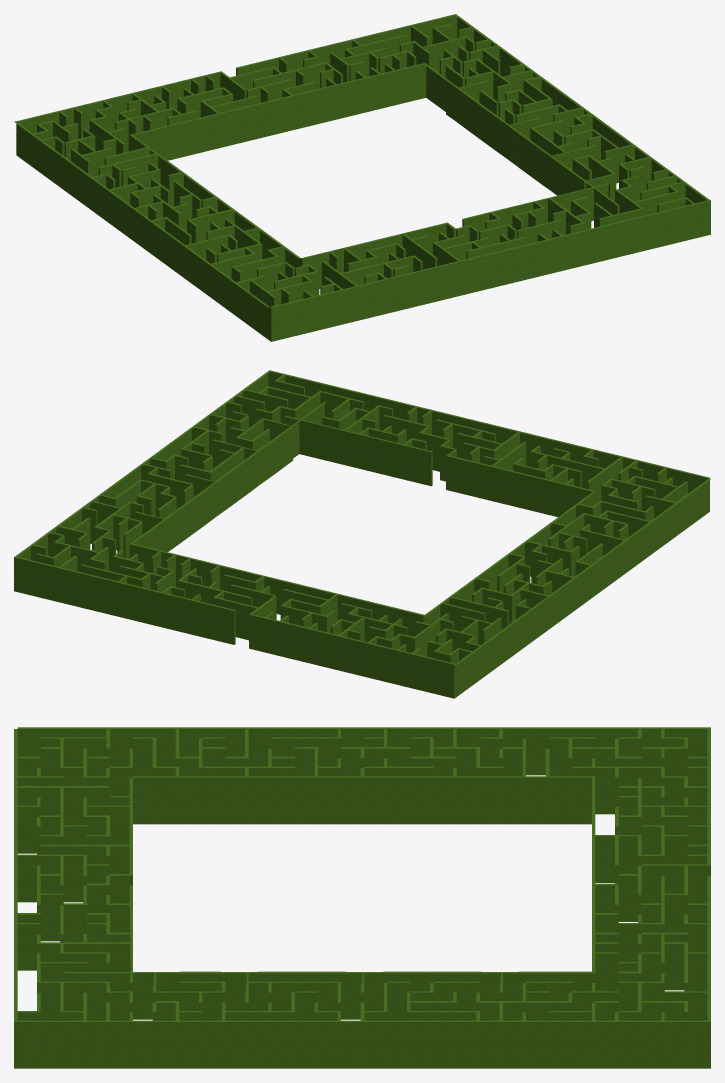
File: Maze-3-UV.fbx
The picture shows the model from 3 angles, top to bottom: view 1: azimuth 30°, elevation 25°; view 2: azimuth 150°, elevation 25°; view 3: azimuth 270°, elevation 25°; orthographic projection. The views are drawn at different scales.
Parts seen in each view (by area): view 1: Curve.001; view 2: Curve.001; view 3: Curve.001.
Boxes of the visible parts, box(x1,y1,x2,y2) form: Curve.001: box(14, 14, 710, 341); Curve.001: box(14, 370, 710, 698); Curve.001: box(14, 727, 710, 1068).
Bounding box in the file's own units: 1974 × 145 × 1974.
